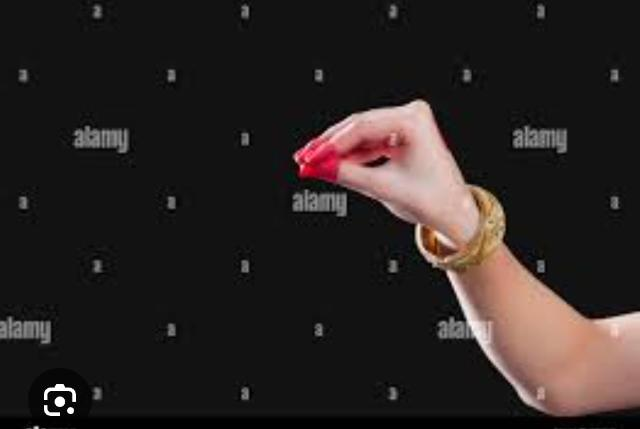mukul: (293, 98, 640, 418)
